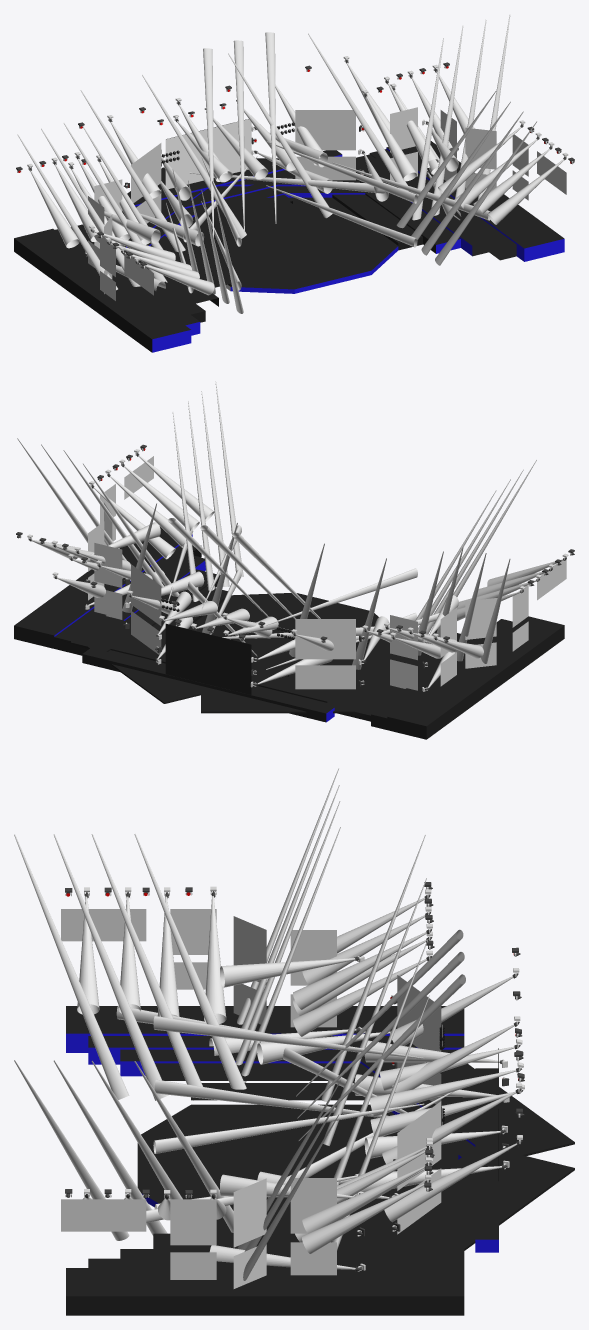
3 views of the same model, one above another, from view 1: azimuth 30°, elevation 25°; view 2: azimuth 150°, elevation 25°; view 3: azimuth 270°, elevation 25° (orthographic). The views are drawn at different scales.
Parts seen in each view (by area): view 1: Group_002, Group_120, Group_121, Group_004, Group_001, Group_238, Group_241, Group_244, Group_268, Group_259, Group_262, Group_127 (+40 smaller); view 2: Group_002, Group_004, Group_121, Group_120, Group_001, Group_007, Group_187, Group_181, Group_196, Group_184, Group_200, Group_204 (+18 smaller); view 3: Group_002, Group_121, Group_120, Group_004, Group_064, Group_067, Group_061, Group_007, Group_070, Group_124, Group_010, Group_022 (+45 smaller).
Part boxes in pixels (x1,y1,x2,y2): Group_002: [14, 141, 564, 352]; Group_120: [177, 197, 398, 293]; Group_121: [295, 107, 566, 200]; Group_004: [88, 143, 161, 300]; Group_001: [165, 119, 251, 188]; Group_238: [265, 32, 276, 223]; Group_241: [203, 48, 213, 237]; Group_244: [233, 40, 244, 231]; Group_268: [228, 53, 332, 218]; Group_259: [308, 33, 408, 191]; Group_262: [80, 90, 185, 251]; Group_127: [266, 185, 417, 247]; Group_002: [14, 526, 564, 739]; Group_004: [295, 559, 566, 690]; Group_121: [88, 456, 161, 654]; Group_120: [188, 593, 389, 679]; Group_001: [165, 623, 251, 694]; Group_007: [266, 568, 417, 625]; Group_187: [188, 401, 214, 590]; Group_181: [215, 381, 243, 576]; Group_196: [110, 476, 186, 547]; Group_184: [201, 391, 229, 586]; Group_200: [124, 465, 199, 530]; Group_204: [138, 455, 214, 521]; Group_002: [66, 1006, 574, 1315]; Group_121: [61, 1101, 441, 1288]; Group_120: [137, 1104, 394, 1218]; Group_004: [61, 909, 441, 1104]; Group_064: [14, 834, 129, 1099]; Group_067: [53, 834, 168, 1100]; Group_061: [134, 833, 246, 1089]; Group_007: [153, 1016, 424, 1058]; Group_070: [91, 834, 202, 1100]; Group_124: [153, 1103, 424, 1153]; Group_010: [154, 1079, 387, 1117]; Group_022: [220, 958, 355, 987].
Bounding box in the file's own units: 44822 × 14194 × 30631.
